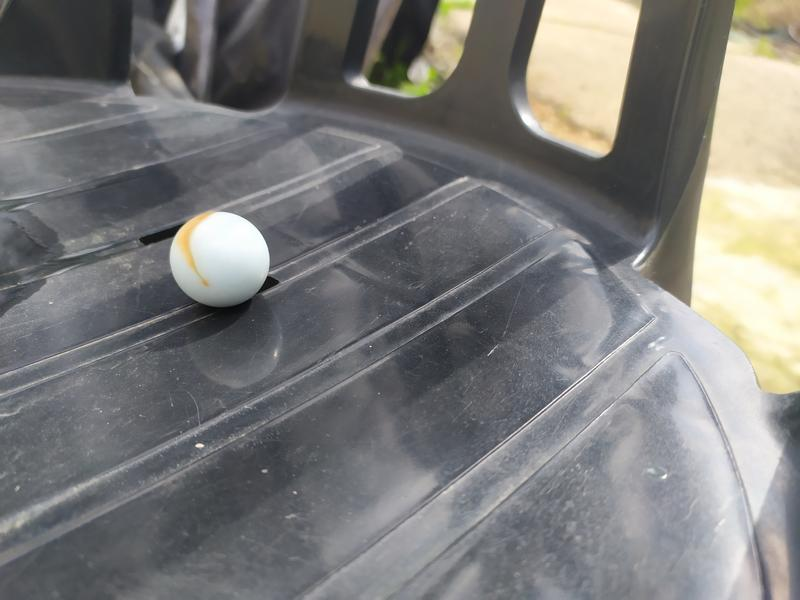Warning: (167, 207, 273, 312)
